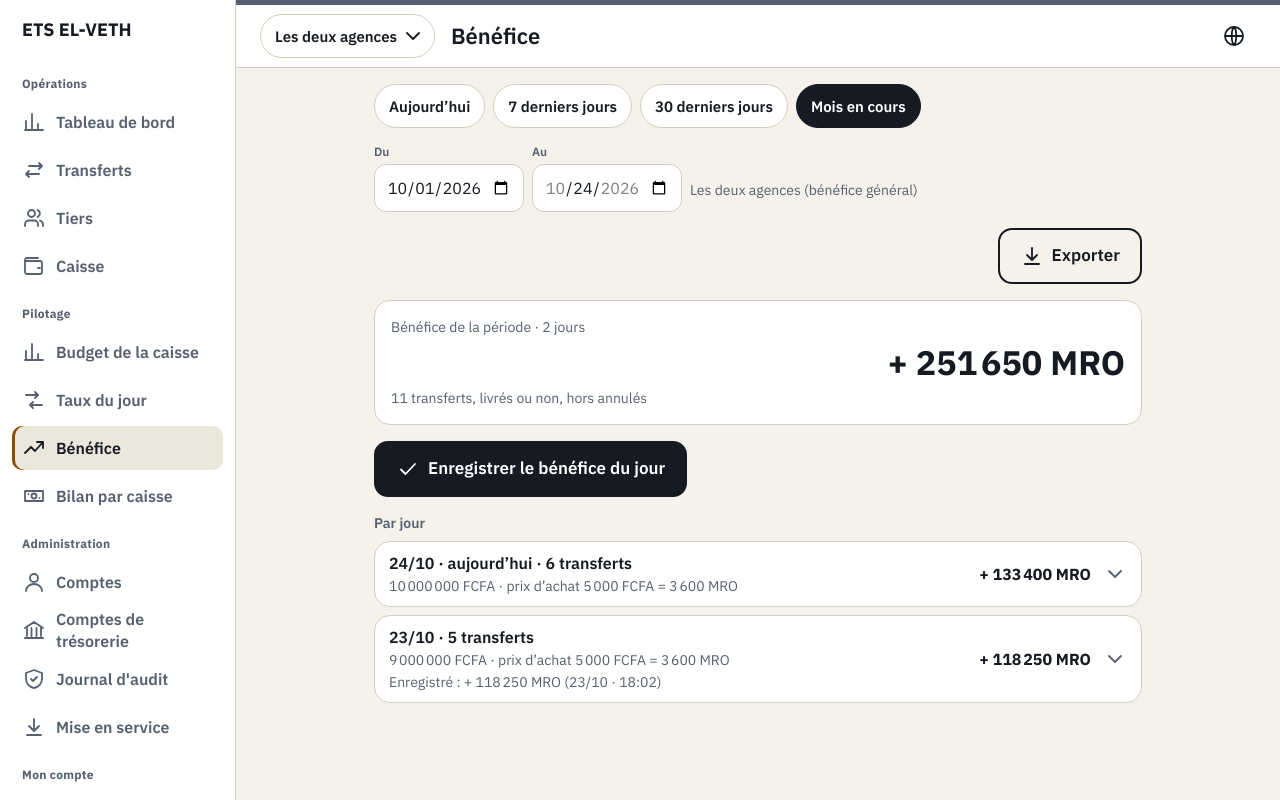
Test: Bénéfice — Superviseur › exporte la période en Excel
Click the button "Exporter": (1070, 256) [998, 228, 1142, 284]
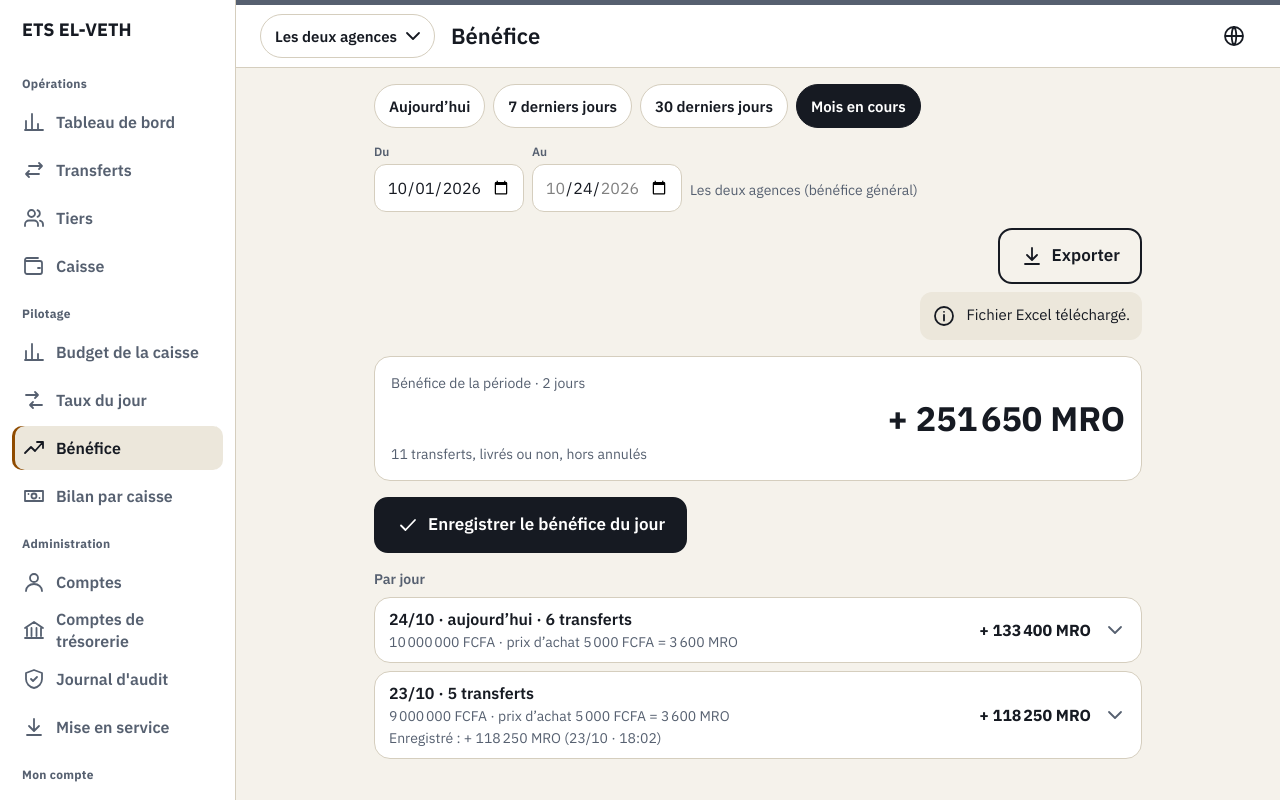
Expected: the text "Fichier Excel téléchargé." is shown, [966, 304, 1130, 328]
